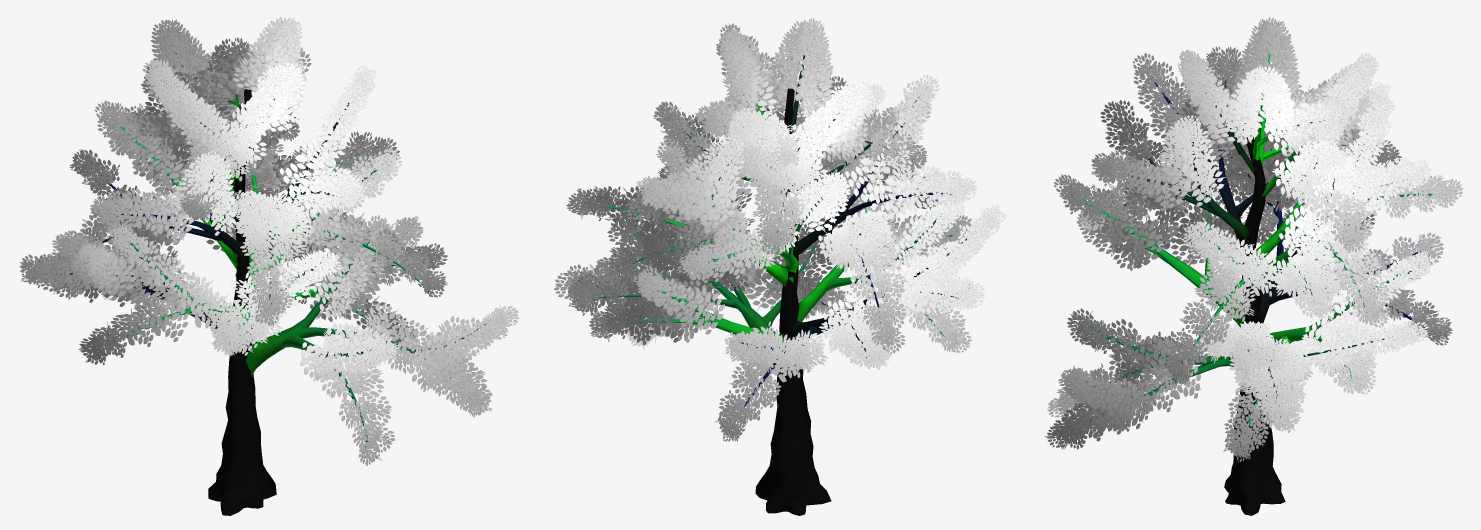
Rendered from bigtree.fbx.
3 views of the same model, side by side, from view 1: azimuth 30°, elevation 25°; view 2: azimuth 150°, elevation 25°; view 3: azimuth 270°, elevation 25° (orthographic).
Parts seen in each view (by area): view 1: leafss_1, bark07_0; view 2: leafss_1, bark07_0; view 3: leafss_1, bark07_0.
Part boxes in pixels (x1,y1,x2,y2): leafss_1: [19, 16, 519, 465]; bark07_0: [42, 46, 492, 515]; leafss_1: [554, 17, 1005, 441]; bark07_0: [591, 55, 975, 515]; leafss_1: [1045, 17, 1463, 462]; bark07_0: [1075, 45, 1440, 515].
Size of the model in its own units: 601 by 624 by 522.
